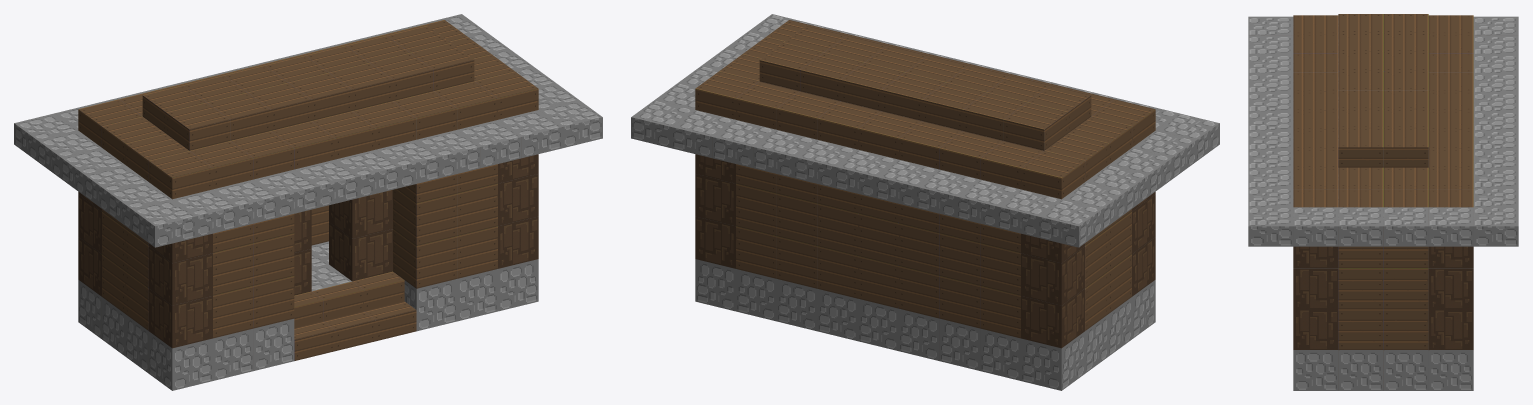
Rendered from Player_House — копия.fbx.
The picture shows the model from 3 angles, left to right: view 1: azimuth 30°, elevation 25°; view 2: azimuth 150°, elevation 25°; view 3: azimuth 270°, elevation 25°; orthographic projection. The views are drawn at different scales.
Parts seen in each view (by area): view 1: House; view 2: House; view 3: House.
Boxes of the visible parts, x1=… form: House: x1=14, y1=14, x2=602, y2=390; House: x1=631, y1=14, x2=1219, y2=390; House: x1=1248, y1=14, x2=1518, y2=390.
Bounding box in the file's own units: 8800 × 4400 × 4800.
Materials: 1 (1 with a texture image).
